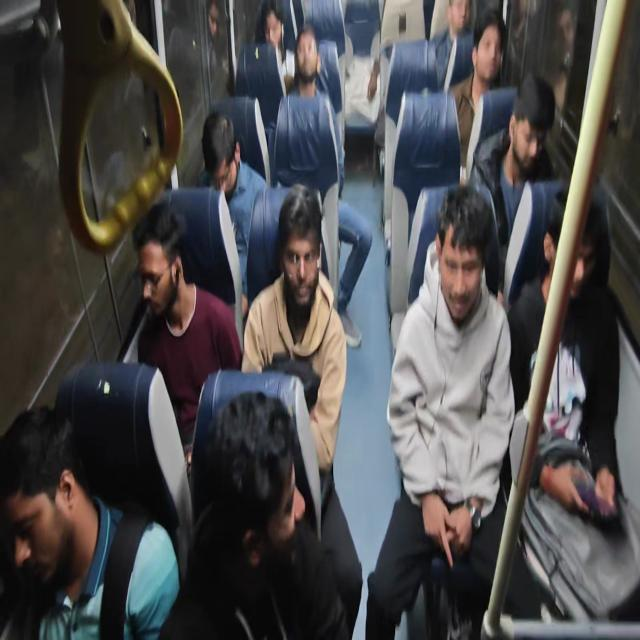person: (414, 202, 540, 556), (530, 212, 635, 496), (222, 406, 327, 640), (131, 210, 228, 424), (0, 418, 91, 627), (250, 178, 324, 388), (489, 78, 558, 194), (182, 104, 245, 221), (464, 23, 522, 106), (284, 26, 330, 94), (352, 38, 376, 116), (442, 0, 476, 27), (261, 4, 284, 43)
